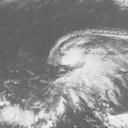cyclone: (51, 41, 116, 94)
